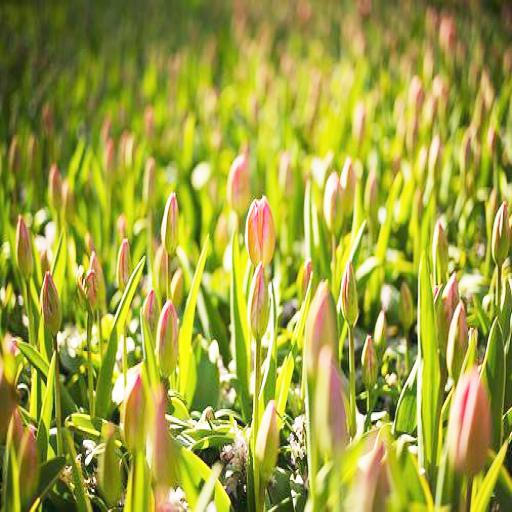tulip: (444, 366, 492, 483), (312, 346, 354, 466), (256, 398, 282, 512), (352, 437, 389, 512), (311, 281, 338, 374), (93, 428, 123, 507), (245, 193, 275, 268), (121, 371, 150, 448), (446, 293, 469, 388), (17, 421, 41, 512), (248, 268, 272, 348), (227, 147, 252, 222), (321, 168, 347, 238), (36, 280, 66, 339), (338, 259, 365, 320), (158, 308, 182, 376), (13, 216, 39, 276), (440, 270, 459, 348), (487, 201, 512, 259), (160, 188, 182, 252), (357, 337, 381, 394), (74, 260, 97, 312), (116, 235, 137, 288), (428, 216, 448, 261), (399, 279, 415, 331), (374, 310, 388, 343)
